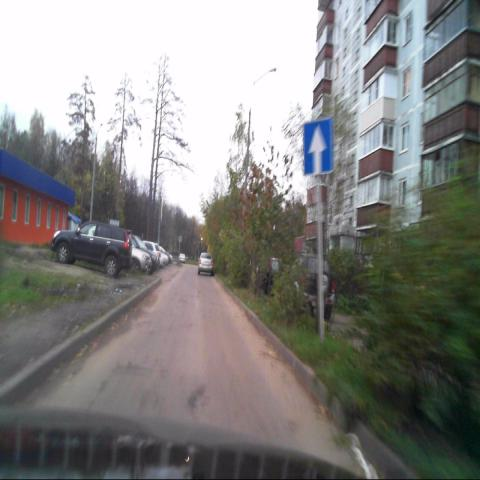5_5: (303, 118, 334, 178)
